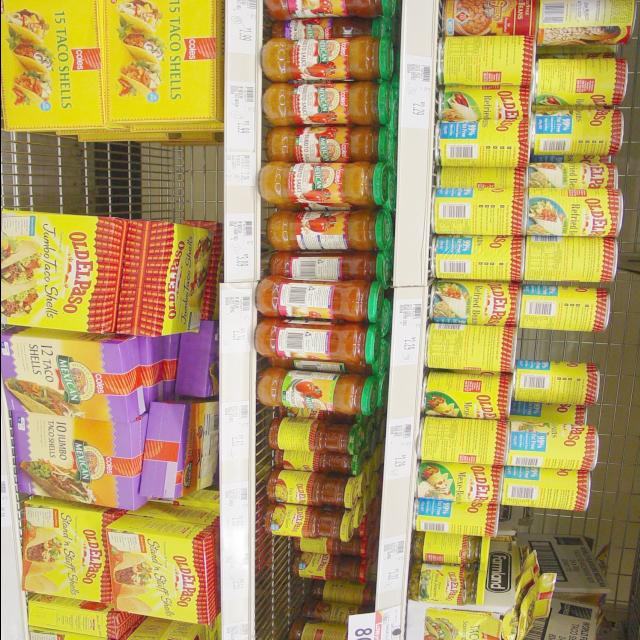empty_space: (1, 136, 215, 216), (261, 544, 301, 633), (515, 329, 603, 366), (498, 509, 582, 538)
